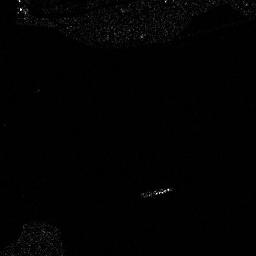ship: (140, 183, 172, 201)
